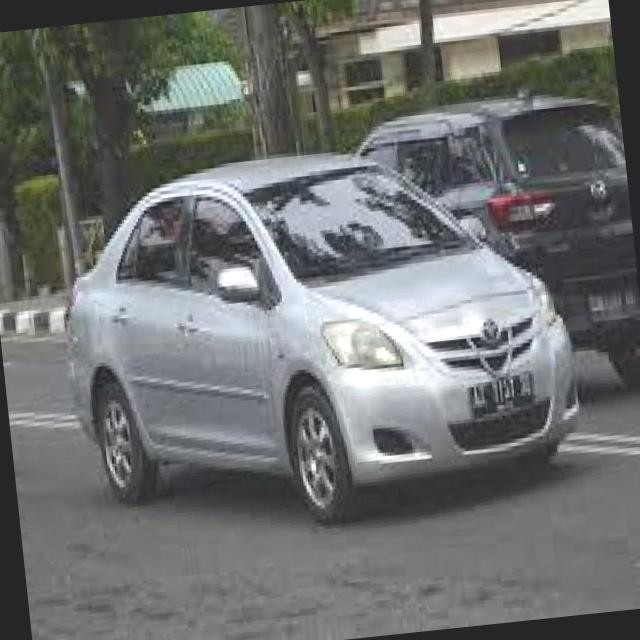ToyotaVios: (46, 125, 592, 550)
